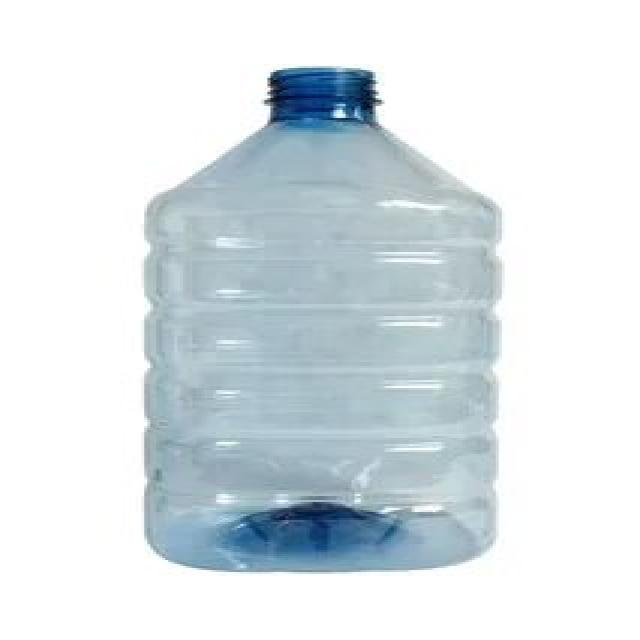blue: (142, 66, 500, 572)
